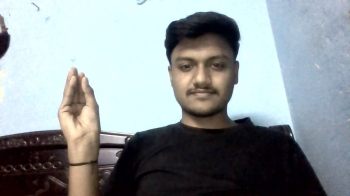hand: (57, 67, 102, 147)
